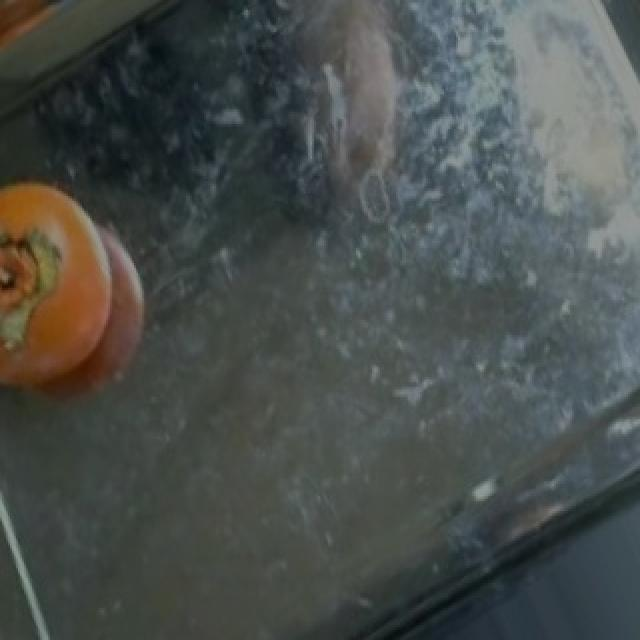Fruit: (0, 156, 140, 427), (0, 0, 102, 77)
